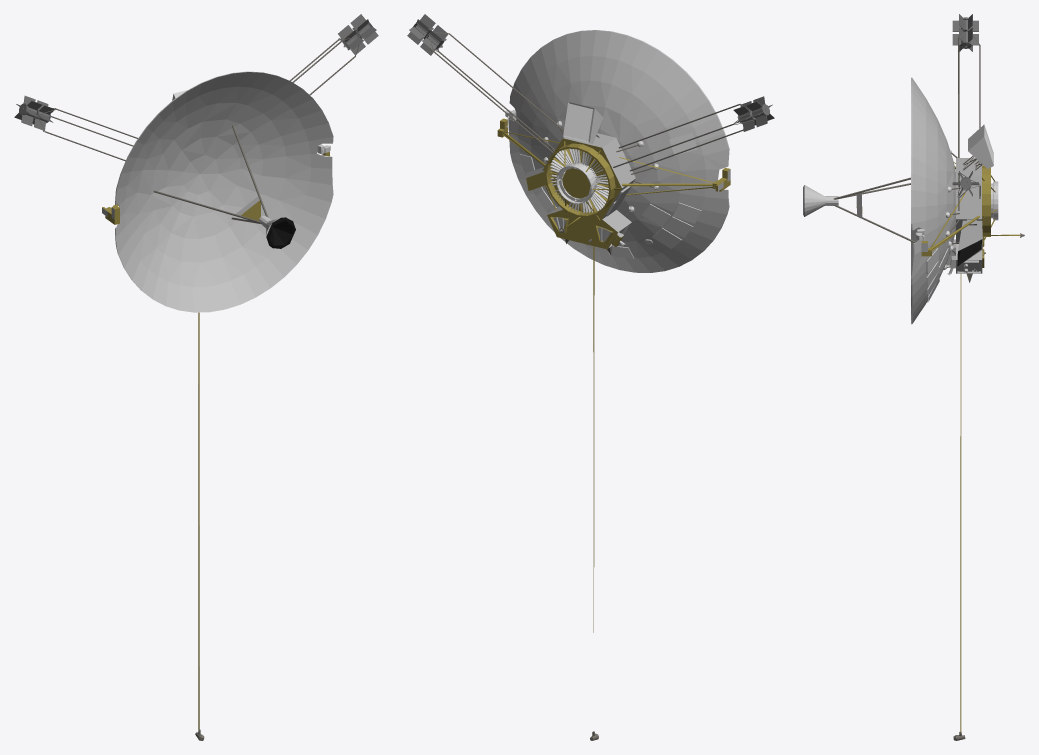
Rendered from pioneer.glb.
3 renders of one model, left to right at view 1: azimuth 30°, elevation 25°; view 2: azimuth 150°, elevation 25°; view 3: azimuth 270°, elevation 25°, orthographic. The views are drawn at different scales.
Parts seen in each view (by area): view 1: body; view 2: body; view 3: body.
Boxes of the visible parts, x1,y1,x2,y2 form: body: [14, 14, 378, 740]; body: [407, 14, 774, 740]; body: [803, 14, 1024, 740].
Size of the model in its own units: 4.52 by 8.25 by 2.54.
